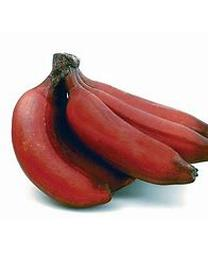banana: (12, 51, 207, 209)
